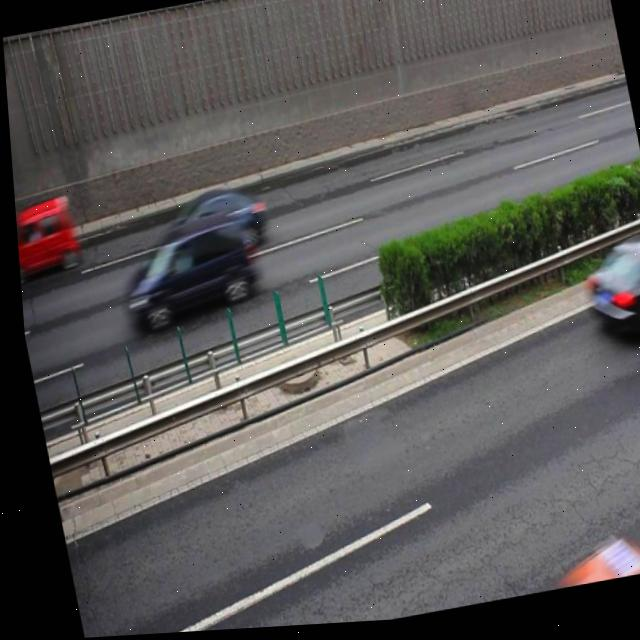car: (153, 183, 271, 271), (572, 239, 640, 358), (11, 192, 78, 277)
truck: (106, 210, 261, 336)
